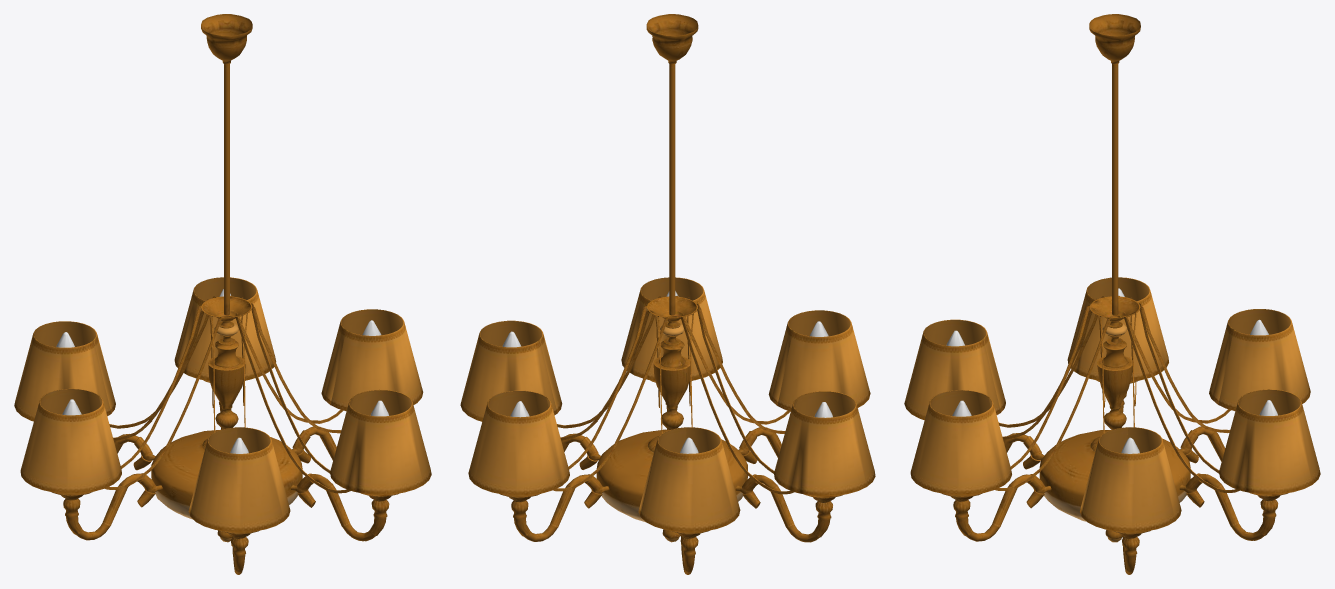
File: nyb_scent_chandelier.glb
3 renders of one model, left to right at view 1: azimuth 30°, elevation 25°; view 2: azimuth 150°, elevation 25°; view 3: azimuth 270°, elevation 25°, orthographic.
Parts seen in each view (by area): view 1: Chandelier_02; view 2: Chandelier_02; view 3: Chandelier_02.
Part boxes in pixels (x1,y1,x2,y2): Chandelier_02: (14, 14, 431, 574); Chandelier_02: (460, 14, 875, 574); Chandelier_02: (904, 14, 1320, 574).
Bounding box in the file's own units: 0.6791 × 0.8481 × 0.6194.
Materials: 2 (1 with a texture image).
